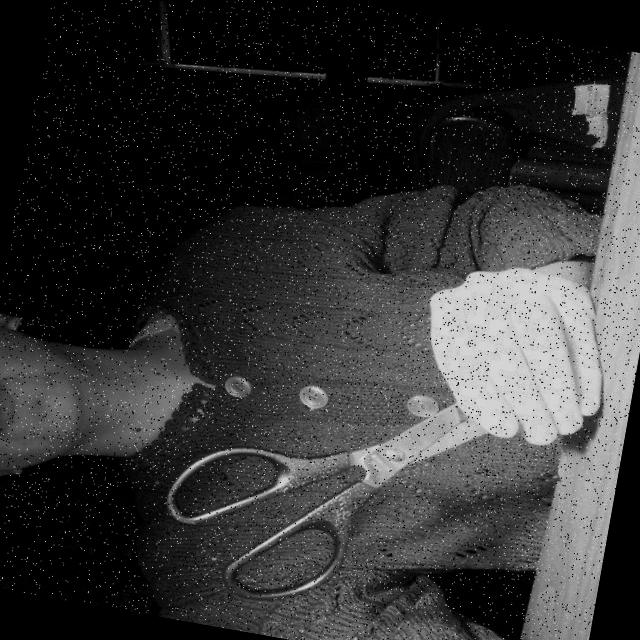scissors: (153, 361, 573, 606)
